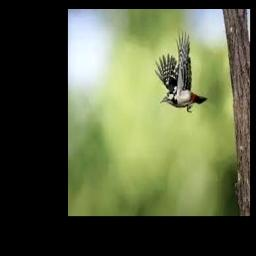Woodpecker: (154, 28, 207, 113)
